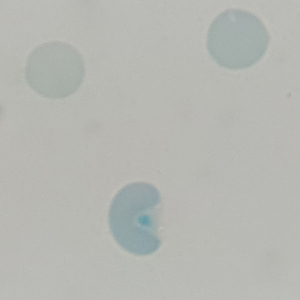erythrocyte: (106, 180, 166, 258), (204, 8, 271, 72), (22, 40, 88, 100)
